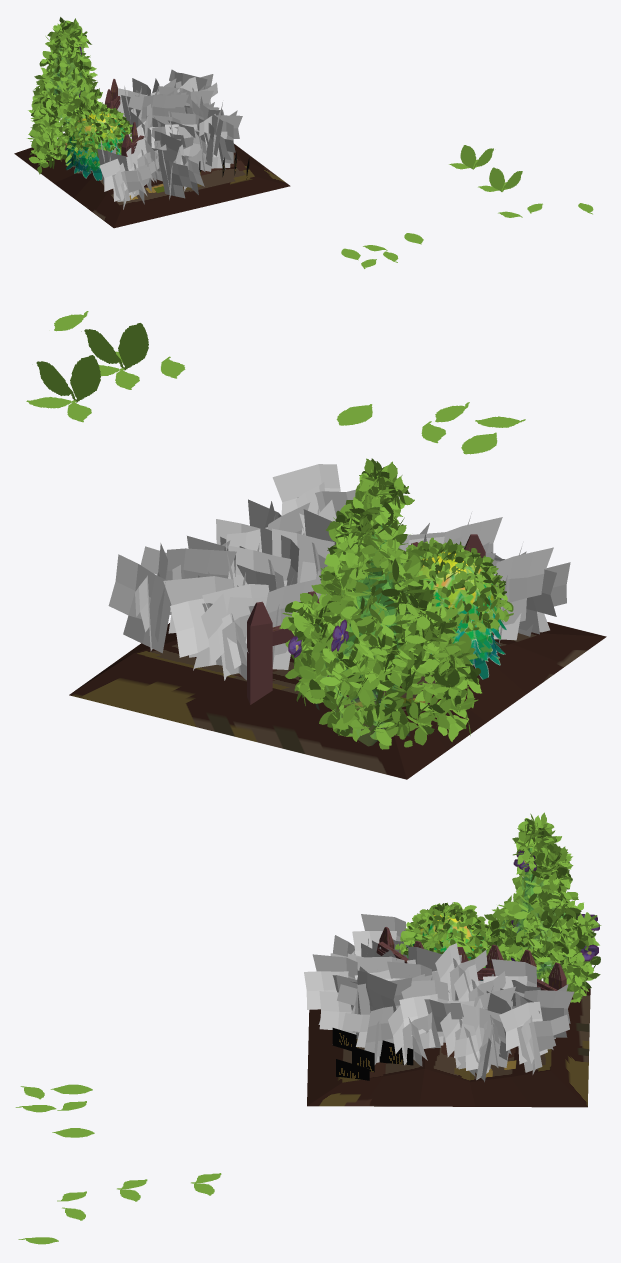
The model's file is 麦田导出(1).fbx.
3 renders of one model, top to bottom at view 1: azimuth 30°, elevation 25°; view 2: azimuth 150°, elevation 25°; view 3: azimuth 270°, elevation 25°, orthographic. The views are drawn at different scales.
Visible parts, largest first — view 1: 平面, 平面.041, 平面.047, 平面.055, 平面.042, 灌木中.001, 平面.043, 平面.064, 平面.057, 平面.040, 平面.028, 平面.053 (+12 smaller); view 2: 平面, 平面.060, 平面.051, 平面.057, 平面.039, 平面.028, 平面.046, 平面.049, 平面.061, 立方体.005, 平面.048, 平面.047 (+12 smaller); view 3: 平面, 平面.060, 平面.054, 平面.042, 平面.061, 平面.043, 平面.057, 平面.058, 平面.039, 平面.047, 平面.064, 平面.048 (+8 smaller).
Part boxes in pixels (x1,y1,x2,y2): 平面: [14, 140, 290, 228]; 平面.041: [99, 156, 150, 209]; 平面.047: [128, 90, 179, 122]; 平面.055: [178, 118, 216, 171]; 平面.042: [159, 150, 192, 199]; 灌木中.001: [67, 111, 128, 153]; 平面.043: [197, 121, 235, 169]; 平面.064: [175, 144, 204, 194]; 平面.057: [199, 102, 223, 156]; 平面.040: [119, 152, 159, 204]; 平面.028: [449, 145, 493, 169]; 平面.053: [165, 112, 208, 144]; 平面: [69, 622, 606, 779]; 平面.060: [108, 543, 171, 653]; 平面.051: [163, 576, 254, 670]; 平面.057: [272, 464, 355, 535]; 平面.039: [493, 547, 553, 643]; 平面.028: [26, 355, 100, 422]; 平面.046: [228, 526, 302, 588]; 平面.049: [201, 589, 250, 680]; 平面.061: [140, 540, 236, 614]; 立方体.005: [247, 601, 272, 704]; 平面.048: [227, 575, 321, 669]; 平面.047: [272, 509, 336, 594]; 平面: [307, 987, 590, 1107]; 平面.060: [499, 1001, 569, 1074]; 平面.054: [399, 980, 463, 1048]; 平面.042: [304, 954, 357, 1024]; 平面.061: [459, 991, 510, 1067]; 平面.043: [342, 1005, 399, 1064]; 平面.057: [357, 966, 411, 1014]; 平面.058: [388, 1005, 431, 1066]; 平面.039: [352, 914, 408, 957]; 平面.047: [435, 943, 487, 1000]; 平面.064: [319, 975, 359, 1038]; 平面.048: [483, 959, 540, 993].
Bounding box in the file's own units: 15.31 × 5.51 × 14.27.
Materials: 17 (11 with a texture image).
